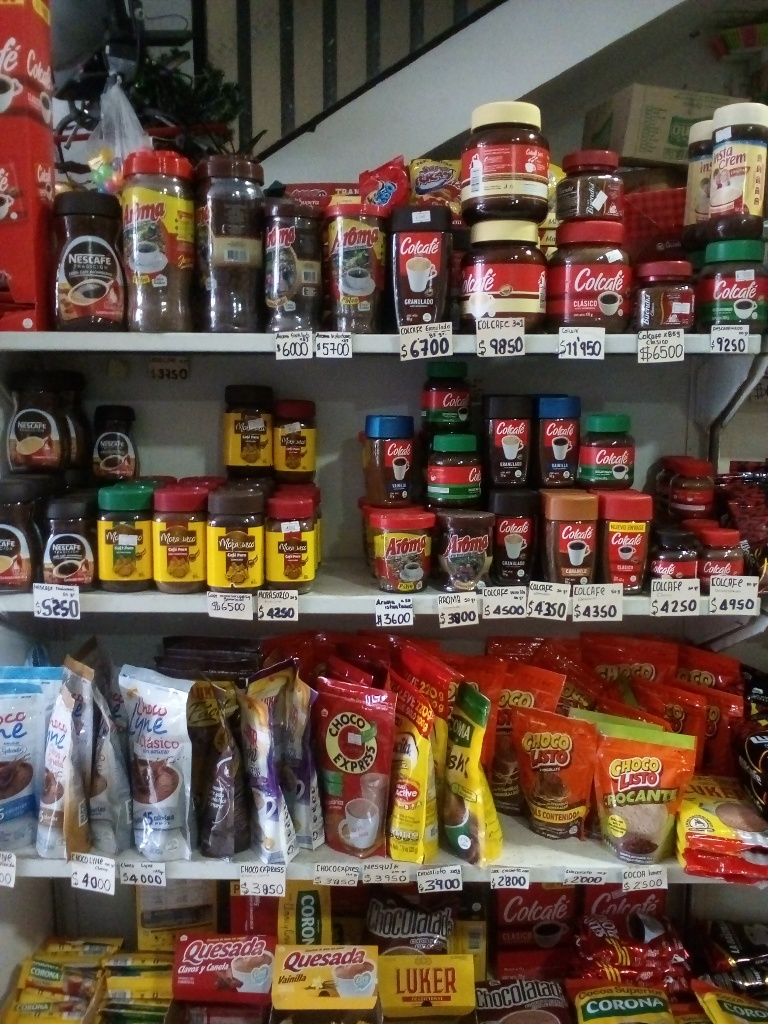COL0170102DYP10000: (601, 718, 697, 866)
